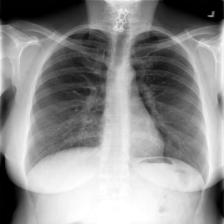normal: (18, 21, 212, 189)
